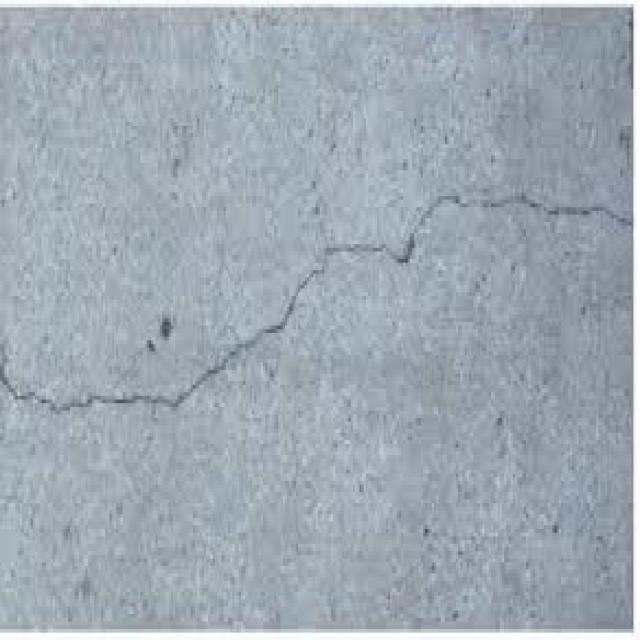crack: (0, 194, 632, 412)
